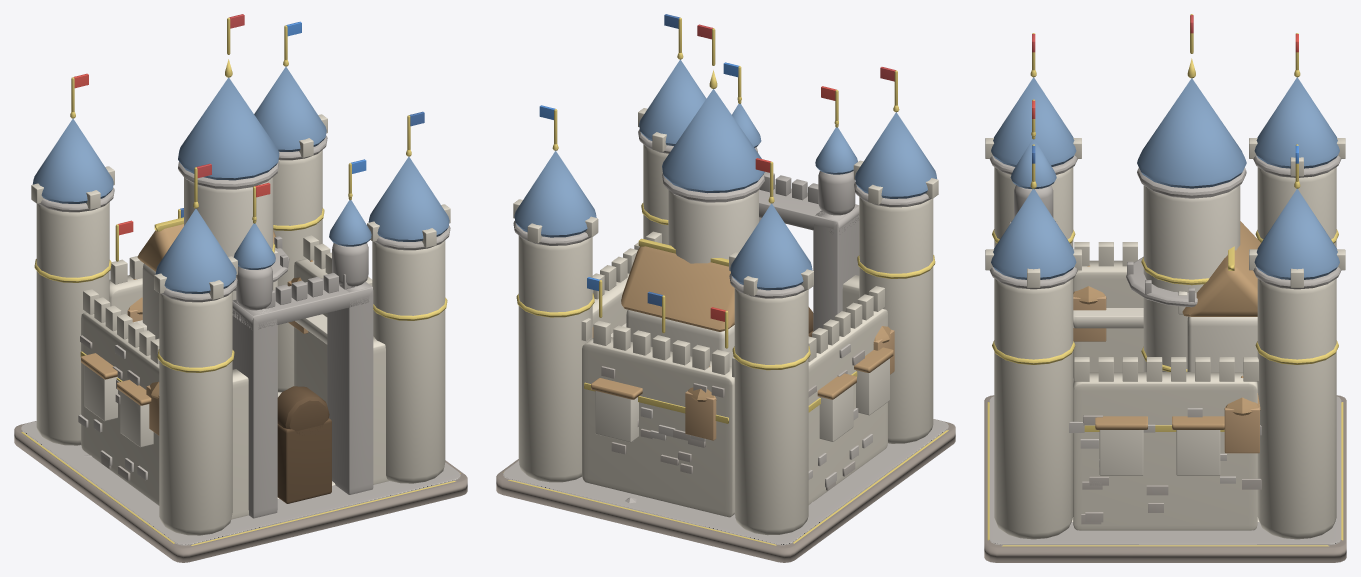
The model's file is burg_level_5.glb.
3 renders of one model, left to right at view 1: azimuth 30°, elevation 25°; view 2: azimuth 150°, elevation 25°; view 3: azimuth 270°, elevation 25°, orthographic. The views are drawn at different scales.
Parts seen in each view (by area): view 1: Tower_FL, Tower_FR, Tower_BL, Gatehouse_R, Platform, PlatformLip, Gatehouse_L, Wall_Left, CentralTower_Roof, Tower_BR, CentralTower, Gate_Opening (+23 smaller); view 2: Tower_BL, Wall_Back, Tower_BR, Tower_FL, Platform, PlatformLip, Keep_Roof, Wall_Left, CentralTower_Roof, CentralTower, Tower_BR_Roof, Tower_FL_Roof (+21 smaller); view 3: Tower_FR, Wall_Right, Tower_BR, CentralTower, Platform, CentralTower_Roof, PlatformLip, Tower_BR_Roof, Tower_FR_Roof, Tower_BL_Roof, Tower_FL_Roof, Wall_Left (+22 smaller).
Part boxes in pixels (box(x1,y1,x2,y2)): Tower_FL: box(159, 292, 232, 535); Tower_FR: box(372, 240, 445, 483); Tower_BL: box(36, 202, 109, 445); Gatehouse_R: box(327, 282, 373, 494); Platform: box(14, 421, 467, 562); PlatformLip: box(21, 421, 460, 545); Gatehouse_L: box(232, 299, 277, 518); Wall_Left: box(81, 312, 159, 505); CentralTower_Roof: box(178, 77, 279, 180); Tower_BR: box(273, 150, 322, 392); CentralTower: box(184, 177, 273, 299); Gate_Opening: box(277, 418, 331, 503); Tower_BL: box(734, 288, 808, 535); Wall_Back: box(582, 337, 734, 517); Tower_BR: box(518, 236, 592, 482); Tower_FL: box(859, 197, 933, 443); Platform: box(496, 419, 955, 562); PlatformLip: box(503, 419, 948, 545); Keep_Roof: box(621, 246, 734, 331); Wall_Left: box(808, 309, 887, 504); CentralTower_Roof: box(662, 89, 764, 193); CentralTower: box(668, 190, 758, 263); Tower_BR_Roof: box(514, 150, 596, 237); Tower_FL_Roof: box(855, 112, 936, 198); Tower_FR: box(994, 278, 1073, 539); Wall_Right: box(1073, 372, 1257, 530); Tower_BR: box(1257, 278, 1336, 539); CentralTower: box(1143, 185, 1240, 371); Platform: box(984, 395, 1346, 562); CentralTower_Roof: box(1137, 78, 1246, 188); PlatformLip: box(989, 396, 1341, 545); Tower_BR_Roof: box(1254, 188, 1339, 279); Tower_FR_Roof: box(991, 188, 1076, 279); Tower_BL_Roof: box(1254, 77, 1339, 168); Tower_FL_Roof: box(991, 77, 1076, 166); Wall_Left: box(1073, 260, 1143, 378).
Bounding box in the file's own units: 1.65 × 2.4 × 1.65.
